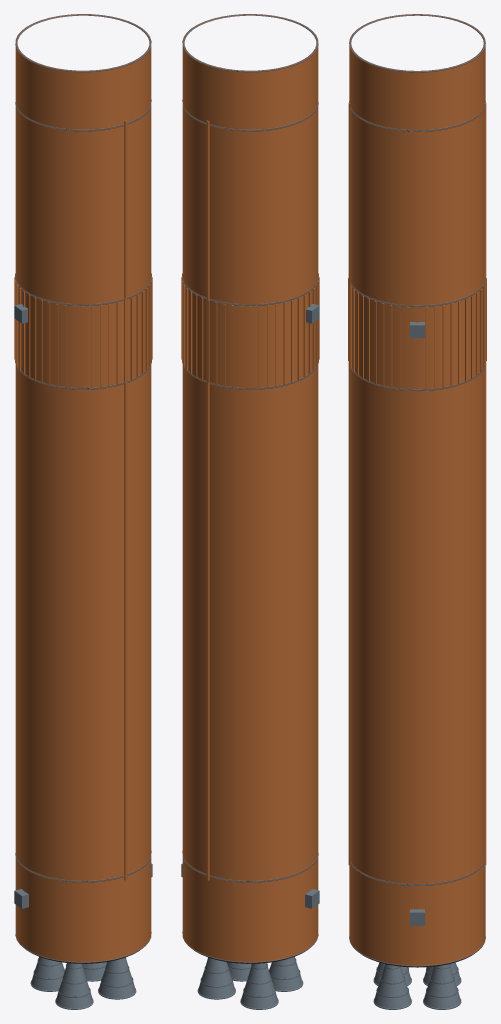
Rendered from sls_core.glb.
The picture shows the model from 3 angles, left to right: view 1: azimuth 30°, elevation 25°; view 2: azimuth 150°, elevation 25°; view 3: azimuth 270°, elevation 25°; orthographic projection.
Visible parts, largest first — view 1: sls_core.lh2_skin.mesh_Spray-on_insulation, sls_core.lox_skin.mesh_Spray-on_insulation, sls_core.intertank.mesh_Spray-on_insulation, sls_core.engine_section.mesh_Spray-on_insulation, sls_core.forward_skirt.mesh_Spray-on_insulation, sls_core.mesh_Spray-on_insulation, sls_core.rs25_04.bell.mesh_Machined_steel, sls_core.rs25_01.bell.mesh_Machined_steel, sls_core.forward_skirt.mesh_Heat-stained_alloy, sls_core.rs25_03.bell.mesh_Machined_steel, sls_core.mesh_Machined_steel, sls_core.engine_section.mesh_Heat-stained_alloy (+4 smaller); view 2: sls_core.lh2_skin.mesh_Spray-on_insulation, sls_core.lox_skin.mesh_Spray-on_insulation, sls_core.intertank.mesh_Spray-on_insulation, sls_core.engine_section.mesh_Spray-on_insulation, sls_core.forward_skirt.mesh_Spray-on_insulation, sls_core.mesh_Spray-on_insulation, sls_core.rs25_03.bell.mesh_Machined_steel, sls_core.rs25_02.bell.mesh_Machined_steel, sls_core.forward_skirt.mesh_Heat-stained_alloy, sls_core.rs25_04.bell.mesh_Machined_steel, sls_core.mesh_Machined_steel, sls_core.engine_section.mesh_Heat-stained_alloy (+4 smaller); view 3: sls_core.lh2_skin.mesh_Spray-on_insulation, sls_core.lox_skin.mesh_Spray-on_insulation, sls_core.intertank.mesh_Spray-on_insulation, sls_core.engine_section.mesh_Spray-on_insulation, sls_core.forward_skirt.mesh_Spray-on_insulation, sls_core.mesh_Spray-on_insulation, sls_core.rs25_01.bell.mesh_Machined_steel, sls_core.rs25_02.bell.mesh_Machined_steel, sls_core.forward_skirt.mesh_Heat-stained_alloy, sls_core.mesh_Machined_steel, sls_core.engine_section.mesh_Heat-stained_alloy, sls_core.lox_skin.mesh_Heat-stained_alloy (+2 smaller).
Boxes of the visible parts, x1,y1,x2,y2 form: sls_core.lh2_skin.mesh_Spray-on_insulation: [15, 364, 151, 880]; sls_core.lox_skin.mesh_Spray-on_insulation: [15, 106, 151, 304]; sls_core.intertank.mesh_Spray-on_insulation: [14, 273, 152, 388]; sls_core.engine_section.mesh_Spray-on_insulation: [15, 857, 151, 961]; sls_core.forward_skirt.mesh_Spray-on_insulation: [15, 46, 151, 129]; sls_core.mesh_Spray-on_insulation: [124, 120, 127, 880]; sls_core.rs25_04.bell.mesh_Machined_steel: [55, 963, 93, 1009]; sls_core.rs25_01.bell.mesh_Machined_steel: [98, 957, 136, 999]; sls_core.forward_skirt.mesh_Heat-stained_alloy: [15, 14, 151, 130]; sls_core.rs25_03.bell.mesh_Machined_steel: [30, 957, 64, 991]; sls_core.mesh_Machined_steel: [14, 304, 152, 908]; sls_core.engine_section.mesh_Heat-stained_alloy: [15, 852, 151, 962]; sls_core.lh2_skin.mesh_Spray-on_insulation: [182, 364, 318, 880]; sls_core.lox_skin.mesh_Spray-on_insulation: [182, 106, 318, 304]; sls_core.intertank.mesh_Spray-on_insulation: [181, 273, 319, 388]; sls_core.engine_section.mesh_Spray-on_insulation: [182, 857, 318, 961]; sls_core.forward_skirt.mesh_Spray-on_insulation: [182, 46, 318, 129]; sls_core.mesh_Spray-on_insulation: [206, 120, 209, 880]; sls_core.rs25_03.bell.mesh_Machined_steel: [240, 963, 278, 1009]; sls_core.rs25_02.bell.mesh_Machined_steel: [197, 957, 235, 999]; sls_core.forward_skirt.mesh_Heat-stained_alloy: [182, 14, 318, 130]; sls_core.rs25_04.bell.mesh_Machined_steel: [269, 957, 303, 991]; sls_core.mesh_Machined_steel: [181, 304, 319, 908]; sls_core.engine_section.mesh_Heat-stained_alloy: [182, 852, 318, 962]; sls_core.lh2_skin.mesh_Spray-on_insulation: [350, 368, 484, 884]; sls_core.lox_skin.mesh_Spray-on_insulation: [350, 109, 484, 305]; sls_core.intertank.mesh_Spray-on_insulation: [348, 278, 486, 389]; sls_core.engine_section.mesh_Spray-on_insulation: [349, 863, 485, 965]; sls_core.forward_skirt.mesh_Spray-on_insulation: [349, 46, 485, 130]; sls_core.mesh_Spray-on_insulation: [348, 102, 486, 865]; sls_core.rs25_01.bell.mesh_Machined_steel: [373, 964, 411, 1009]; sls_core.rs25_02.bell.mesh_Machined_steel: [423, 964, 461, 1009]; sls_core.forward_skirt.mesh_Heat-stained_alloy: [349, 14, 485, 131]; sls_core.mesh_Machined_steel: [410, 322, 424, 925]; sls_core.engine_section.mesh_Heat-stained_alloy: [349, 861, 485, 966]; sls_core.lox_skin.mesh_Heat-stained_alloy: [350, 107, 484, 306].
Bounding box in the file's own units: 9.35 × 64.6 × 8.56.
